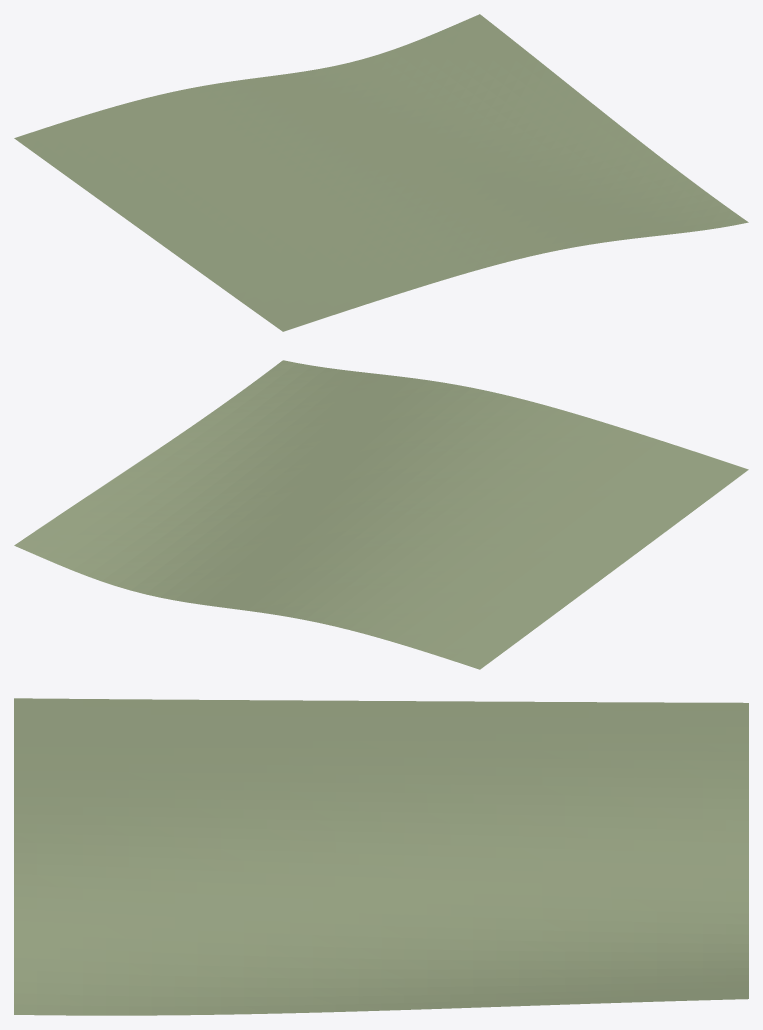
Rendered from desert-12-22.glb.
3 views of the same model, one above another, from view 1: azimuth 30°, elevation 25°; view 2: azimuth 150°, elevation 25°; view 3: azimuth 270°, elevation 25° (orthographic). The views are drawn at different scales.
Visible parts, largest first — view 1: desert-12-22; view 2: desert-12-22; view 3: desert-12-22.
Part boxes in pixels (x1=…): desert-12-22: x1=14, y1=14, x2=748, y2=331; desert-12-22: x1=14, y1=360, x2=748, y2=669; desert-12-22: x1=14, y1=698, x2=748, y2=1015.
Size of the model in its own units: 512 by 25.9 by 512.
